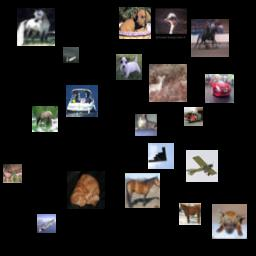airplane: (186, 150, 218, 182), (148, 143, 174, 169), (37, 214, 56, 233), (63, 47, 79, 63)
automobile: (205, 74, 234, 103)
bird: (155, 8, 187, 40)
cat: (67, 171, 105, 209), (135, 114, 157, 136)
deer: (149, 64, 187, 102), (32, 106, 58, 132), (3, 164, 22, 183)
dog: (212, 204, 247, 239), (119, 7, 151, 39), (116, 54, 142, 80)
ship: (66, 85, 98, 117)
truck: (184, 107, 203, 126)
